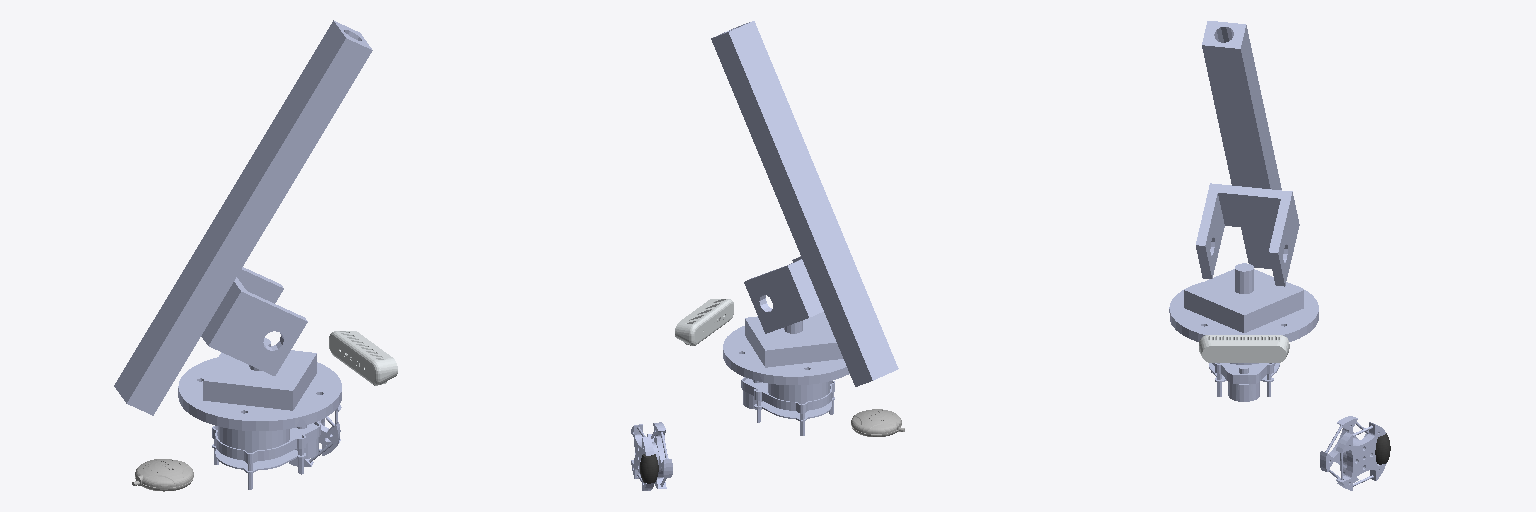
robot.urdf — urdf:
<?xml version="1.0" encoding="utf-8"?>
<!-- This URDF was automatically created by SolidWorks to URDF Exporter! Originally created by [author] ([email redacted]) 
     Commit Version: 1.6.0-1-g15f4949  Build Version: 1.6.7594.29634
     For more information, please see http://wiki.ros.org/sw_urdf_exporter -->
<robot
  name="urdf">
  <link
    name="base_link">
    <inertial>
      <origin
        xyz="0.00026343 -1.5535E-11 0.0056311"
        rpy="0 0 0" />
      <mass
        value="0.62938" />
      <inertia
        ixx="0.0021443"
        ixy="5.5259E-11"
        ixz="-1.8826E-05"
        iyy="0.0022725"
        iyz="-4.0514E-15"
        izz="0.0042455" />
    </inertial>
    <visual>
      <origin
        xyz="0 0 0"
        rpy="0 0 0" />
      <geometry>
        <mesh
          filename="package://urdf/meshes/base_link.STL" />
      </geometry>
      <material
        name="">
        <color
          rgba="0.75294 0.75294 0.75294 1" />
      </material>
    </visual>
    <collision>
      <origin
        xyz="0 0 0"
        rpy="0 0 0" />
      <geometry>
        <mesh
          filename="package://urdf/meshes/base_link.STL" />
      </geometry>
    </collision>
  </link>
  <link
    name="rim_front_left_Link">
    <inertial>
      <origin
        xyz="-8.3267E-17 -1.6653E-16 0.013812"
        rpy="0 0 0" />
      <mass
        value="0.045828" />
      <inertia
        ixx="7.9435E-06"
        ixy="1.1537E-20"
        ixz="1.2705E-21"
        iyy="7.9435E-06"
        iyz="9.3167E-21"
        izz="1.5567E-05" />
    </inertial>
    <visual>
      <origin
        xyz="0 0 0"
        rpy="0 0 0" />
      <geometry>
        <mesh
          filename="package://urdf/meshes/rim_front_left_Link.STL" />
      </geometry>
      <material
        name="">
        <color
          rgba="0.79216 0.81961 0.93333 1" />
      </material>
    </visual>
    <collision>
      <origin
        xyz="0 0 0"
        rpy="0 0 0" />
      <geometry>
        <mesh
          filename="package://urdf/meshes/rim_front_left_Link.STL" />
      </geometry>
    </collision>
  </link>
  <joint
    name="rim_front_left_joint"
    type="continuous">
    <origin
      xyz="0.11977 0.12038 -0.0255"
      rpy="1.5708 0 -0.7854" />
    <parent
      link="base_link" />
    <child
      link="rim_front_left_Link" />
    <axis
      xyz="0 0 1" />
    <dynamics
      damping="0.01"
      friction="0.01" />
  </joint>
  <link
    name="roller_e_rim_front_left_link">
    <inertial>
      <origin
        xyz="2.7756E-17 0 0"
        rpy="0 0 0" />
      <mass
        value="0.0066143" />
      <inertia
        ixx="5.5362E-07"
        ixy="-2.647E-23"
        ixz="-3.3796E-09"
        iyy="5.5367E-07"
        iyz="-7.8727E-23"
        izz="3.1857E-07" />
    </inertial>
    <visual>
      <origin
        xyz="0 0 0"
        rpy="0 0 0" />
      <geometry>
        <mesh
          filename="package://urdf/meshes/roller_e_rim_front_left_link.STL" />
      </geometry>
      <material
        name="">
        <color
          rgba="0.29804 0.29804 0.29804 1" />
      </material>
    </visual>
    <collision>
      <origin
        xyz="0 0 0"
        rpy="0 0 0" />
      <geometry>
        <mesh
          filename="package://urdf/meshes/roller_e_rim_front_left_link.STL" />
      </geometry>
    </collision>
  </link>
  <joint
    name="roller_e_rim_front_left_joint"
    type="continuous">
    <origin
      xyz="-0.027497 0.00039526 0.0045"
      rpy="-1.5708 0 0" />
    <parent
      link="rim_front_left_Link" />
    <child
      link="roller_e_rim_front_left_link" />
    <axis
      xyz="0 0 1" />
    <dynamics
      damping="0.01"
      friction="0.01" />
  </joint>
  <link
    name="lidar_Link">
    <inertial>
      <origin
        xyz="0.0082941 0 -0.0085489"
        rpy="0 0 0" />
      <mass
        value="0.1467" />
      <inertia
        ixx="6.2272E-05"
        ixy="-1.6963E-20"
        ixz="1.8866E-05"
        iyy="0.00010967"
        iyz="9.2597E-21"
        izz="0.00012568" />
    </inertial>
    <visual>
      <origin
        xyz="0 0 0"
        rpy="0 0 0" />
      <geometry>
        <mesh
          filename="package://urdf/meshes/lidar_Link.STL" />
      </geometry>
      <material
        name="">
        <color
          rgba="0.79216 0.81961 0.93333 1" />
      </material>
    </visual>
    <collision>
      <origin
        xyz="0 0 0"
        rpy="0 0 0" />
      <geometry>
        <mesh
          filename="package://urdf/meshes/lidar_Link.STL" />
      </geometry>
    </collision>
  </link>
  <joint
    name="lidar_joint"
    type="fixed">
    <origin
      xyz="-0.00711050901810081 0 0.04625"
      rpy="0 0 0" />
    <parent
      link="base_link" />
    <child
      link="lidar_Link" />
    <axis
      xyz="0 0 0" />
    <dynamics
      damping="0.01"
      friction="0.01" />
  </joint>
  <link
    name="cam_Link">
    <inertial>
      <origin
        xyz="-0.001705 -0.0001361 -0.011444"
        rpy="0 0 0" />
      <mass
        value="0.10791" />
      <inertia
        ixx="7.71E-06"
        ixy="2.2103E-10"
        ixz="-1.7837E-08"
        iyy="7.0257E-05"
        iyz="4.9293E-08"
        izz="7.1255E-05" />
    </inertial>
    <visual>
      <origin
        xyz="0 0 0"
        rpy="0 0 0" />
      <geometry>
        <mesh
          filename="package://urdf/meshes/cam_Link.STL" />
      </geometry>
      <material
        name="">
        <color
          rgba="0.89804 0.91765 0.92941 1" />
      </material>
    </visual>
    <collision>
      <origin
        xyz="0 0 0"
        rpy="0 0 0" />
      <geometry>
        <mesh
          filename="package://urdf/meshes/cam_Link.STL" />
      </geometry>
    </collision>
  </link>
  <joint
    name="cam_joint"
    type="fixed">
    <origin
      xyz="0.119389490981904 0.00171624697898104 0.0889999999999961"
      rpy="1.5707963267949 0 1.57079632679488" />
    <parent
      link="base_link" />
    <child
      link="cam_Link" />
    <axis
      xyz="0 0 0" />
    <dynamics
      damping="0.01"
      friction="0.01" />
  </joint>
  <link
    name="gps_Link">
    <inertial>
      <origin
        xyz="-0.00023434 -0.00048018 -0.008094"
        rpy="0 0 0" />
      <mass
        value="0.027335" />
      <inertia
        ixx="3.5557E-06"
        ixy="-1.4936E-08"
        ixz="1.0193E-08"
        iyy="3.6824E-06"
        iyz="-5.5545E-10"
        izz="7.0614E-06" />
    </inertial>
    <visual>
      <origin
        xyz="0 0 0"
        rpy="0 0 0" />
      <geometry>
        <mesh
          filename="package://urdf/meshes/gps_Link.STL" />
      </geometry>
      <material
        name="">
        <color
          rgba="0.75294 0.75294 0.75294 1" />
      </material>
    </visual>
    <collision>
      <origin
        xyz="0 0 0"
        rpy="0 0 0" />
      <geometry>
        <mesh
          filename="package://urdf/meshes/gps_Link.STL" />
      </geometry>
    </collision>
  </link>
  <joint
    name="gps_joint"
    type="fixed">
    <origin
      xyz="-0.101891690887223 0.000123009149377712 0.0281386585309423"
      rpy="0 0 0" />
    <parent
      link="base_link" />
    <child
      link="gps_Link" />
    <axis
      xyz="0 0 0" />
    <dynamics
      damping="0.01"
      friction="0.01" />
  </joint>
  <link
    name="de_Link">
    <inertial>
      <origin
        xyz="0 2.77555756156289E-17 -0.0174830384543071"
        rpy="0 0 0" />
      <mass
        value="0.327529187998142" />
      <inertia
        ixx="0.00036497029704894"
        ixy="2.70901650611047E-20"
        ixz="-4.92055367938496E-20"
        iyy="0.00036497029704894"
        iyz="8.43831343727799E-20"
        izz="0.0006664691117042" />
    </inertial>
    <visual>
      <origin
        xyz="0 0 0"
        rpy="0 0 0" />
      <geometry>
        <mesh
          filename="package://urdf/meshes/de_Link.STL" />
      </geometry>
      <material
        name="">
        <color
          rgba="0.792156862745098 0.819607843137255 0.933333333333333 1" />
      </material>
    </visual>
    <collision>
      <origin
        xyz="0 0 0"
        rpy="0 0 0" />
      <geometry>
        <mesh
          filename="package://urdf/meshes/de_Link.STL" />
      </geometry>
    </collision>
  </link>
  <joint
    name="de_joint"
    type="fixed">
    <origin
      xyz="-0.00061051 0 0.104"
      rpy="0 0 0" />
    <parent
      link="base_link" />
    <child
      link="de_Link" />
    <axis
      xyz="0 0 0" />
    <dynamics
      damping="0.01"
      friction="0.01" />
  </joint>
  <link
    name="1_Link">
    <inertial>
      <origin
        xyz="0.002182 0.0093368 0.020798"
        rpy="0 0 0" />
      <mass
        value="0.09842" />
      <inertia
        ixx="6.5924E-05"
        ixy="-1.4202E-06"
        ixz="6.6287E-08"
        iyy="6.0179E-05"
        iyz="2.8365E-07"
        izz="5.423E-05" />
    </inertial>
    <visual>
      <origin
        xyz="0 0 0"
        rpy="0 0 0" />
      <geometry>
        <mesh
          filename="package://urdf/meshes/1_Link.STL" />
      </geometry>
      <material
        name="">
        <color
          rgba="0.79216 0.81961 0.93333 1" />
      </material>
    </visual>
    <collision>
      <origin
        xyz="0 0 0"
        rpy="0 0 0" />
      <geometry>
        <mesh
          filename="package://urdf/meshes/1_Link.STL" />
      </geometry>
    </collision>
  </link>
  <joint
    name="1_joint"
    type="revolute">
    <origin
      xyz="-0.001338 -0.0057253 0.025"
      rpy="0 0 0" />
    <parent
      link="de_Link" />
    <child
      link="1_Link" />
    <axis
      xyz="0 0 1" />
    <limit
      lower="0"
      upper="0"
      effort="0"
      velocity="0" />
    <dynamics
      damping="0.01"
      friction="0.01" />
  </joint>
  <link
    name="2_link">
    <inertial>
      <origin
        xyz="-0.024115 0.076424 0.0225"
        rpy="0 0 0" />
      <mass
        value="0.53988" />
      <inertia
        ixx="0.0048113"
        ixy="-0.0024174"
        ixz="1.0842E-19"
        iyy="0.0017825"
        iyz="2.387E-19"
        izz="0.0062046" />
    </inertial>
    <visual>
      <origin
        xyz="0 0 0"
        rpy="0 0 0" />
      <geometry>
        <mesh
          filename="package://urdf/meshes/2_link.STL" />
      </geometry>
      <material
        name="">
        <color
          rgba="0.79216 0.81961 0.93333 1" />
      </material>
    </visual>
    <collision>
      <origin
        xyz="0 0 0"
        rpy="0 0 0" />
      <geometry>
        <mesh
          filename="package://urdf/meshes/2_link.STL" />
      </geometry>
    </collision>
  </link>
  <joint
    name="2_joint"
    type="revolute">
    <origin
      xyz="0.0064582 0.027635 0.02"
      rpy="1.5708 0 -0.22958" />
    <parent
      link="1_Link" />
    <child
      link="2_link" />
    <axis
      xyz="0 0 1" />
    <limit
      lower="0"
      upper="0"
      effort="0"
      velocity="0" />
    <dynamics
      damping="0.01"
      friction="0.01" />
  </joint>
</robot>

--- Facts derived from the render (not from the file) ---
3 views of the same robot in one strip: view 1: azimuth 30°, elevation 25°; view 2: azimuth 150°, elevation 25°; view 3: azimuth 270°, elevation 25° (orthographic).
Model urdf with 9 links and 8 joints (2 revolute, 2 continuous, 4 fixed), rooted at base_link, posed every joint at zero.
Links seen in each view (by area): view 1: 2_link, de_Link, lidar_Link, cam_Link, gps_Link, rim_front_left_Link; view 2: 2_link, de_Link, lidar_Link, cam_Link, rim_front_left_Link, gps_Link; view 3: 2_link, de_Link, rim_front_left_Link, cam_Link, lidar_Link.
Boxes of the visible links, bbox=[...] form: 2_link: bbox=[114, 20, 372, 415]; de_Link: bbox=[178, 338, 341, 430]; lidar_Link: bbox=[212, 422, 320, 489]; cam_Link: bbox=[329, 331, 397, 385]; gps_Link: bbox=[132, 459, 193, 491]; rim_front_left_Link: bbox=[289, 405, 341, 466]; 2_link: bbox=[711, 21, 898, 386]; de_Link: bbox=[723, 312, 849, 384]; lidar_Link: bbox=[741, 377, 834, 435]; cam_Link: bbox=[675, 299, 733, 345]; rim_front_left_Link: bbox=[631, 422, 672, 490]; gps_Link: bbox=[851, 409, 904, 436]; 2_link: bbox=[1196, 21, 1299, 286]; de_Link: bbox=[1169, 263, 1318, 341]; rim_front_left_Link: bbox=[1320, 416, 1386, 490]; cam_Link: bbox=[1199, 335, 1289, 362]; lidar_Link: bbox=[1209, 363, 1279, 401].
Size in the robot's own frame: 0.2777 by 0.2216 by 0.4954 metres.
Meshes: 9 distinct files referenced, 7 mesh visuals loaded (7 binary STL); not drawn: 2 (reference not matched to a file when rendering).
